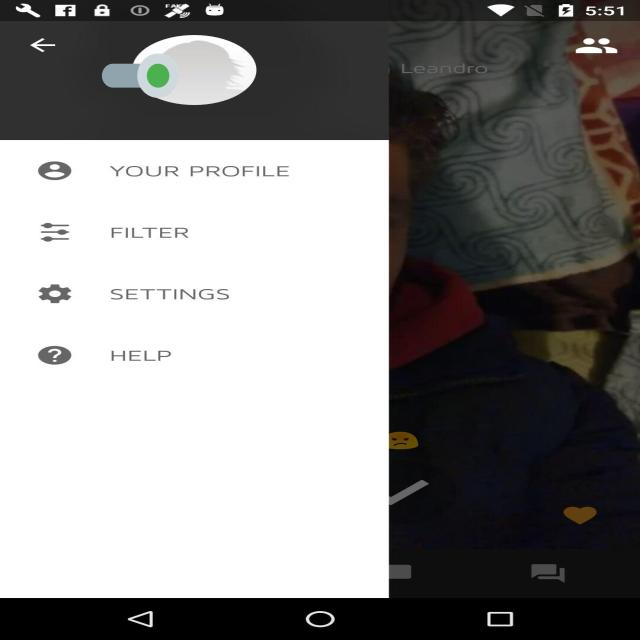social proof: (102, 34, 179, 116)
